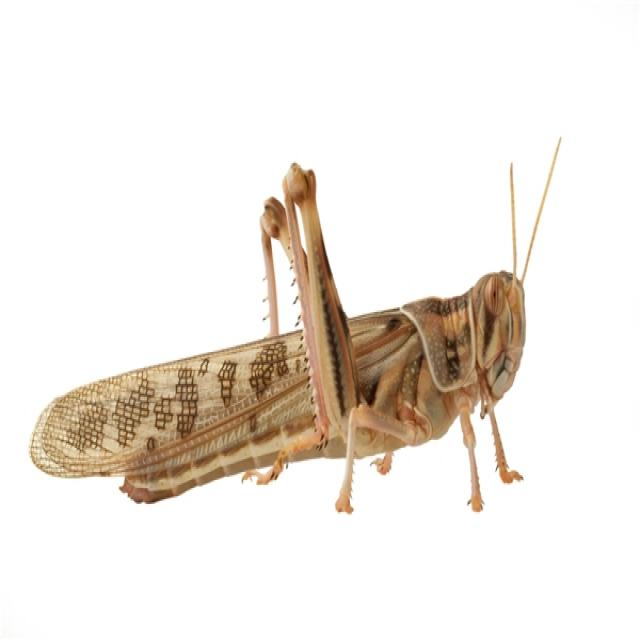ZhaMeng: (19, 162, 550, 535)
